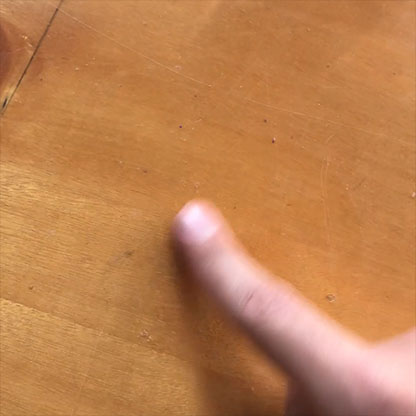fingertip: (159, 187, 236, 257)
